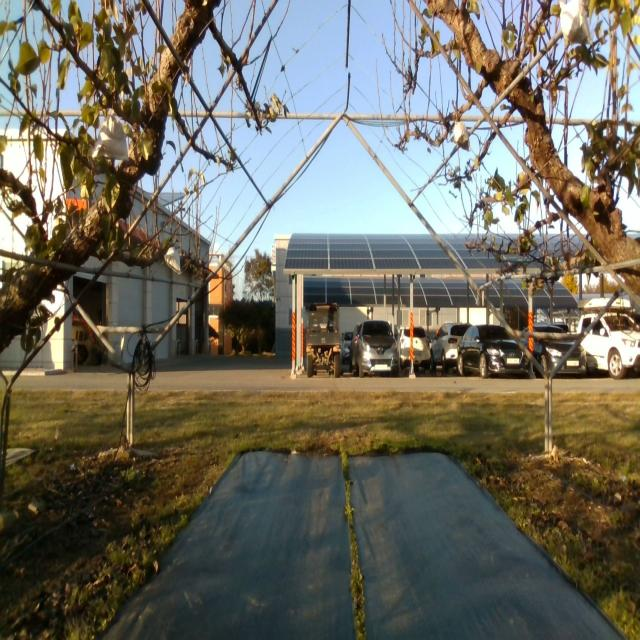pearbags: (93, 109, 128, 162), (558, 0, 592, 45), (164, 246, 181, 275), (454, 121, 470, 151)
